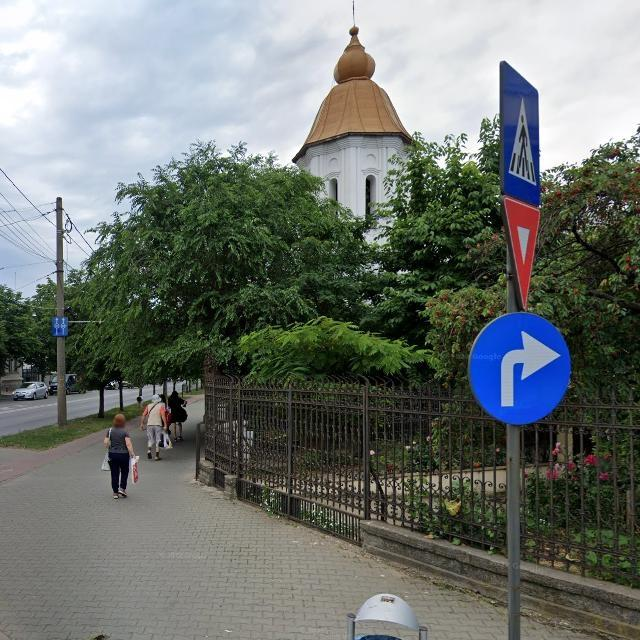info_crosswalk: (497, 61, 554, 206)
prio_give_way: (505, 196, 546, 308)
